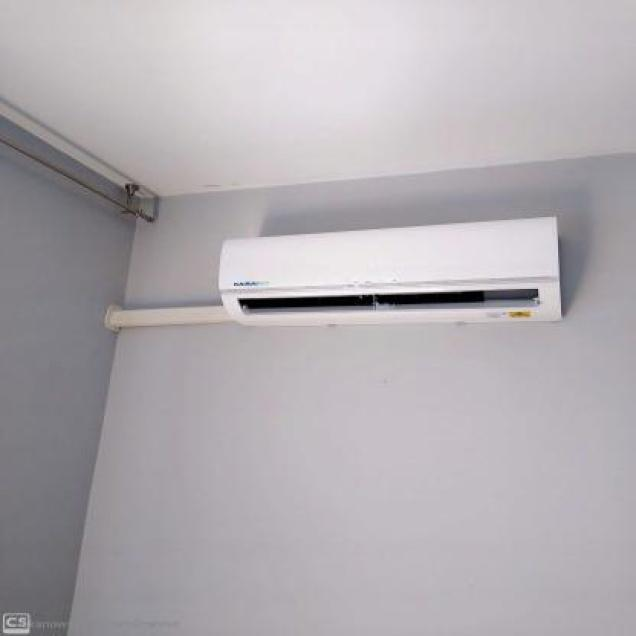AC: (216, 211, 564, 325)
